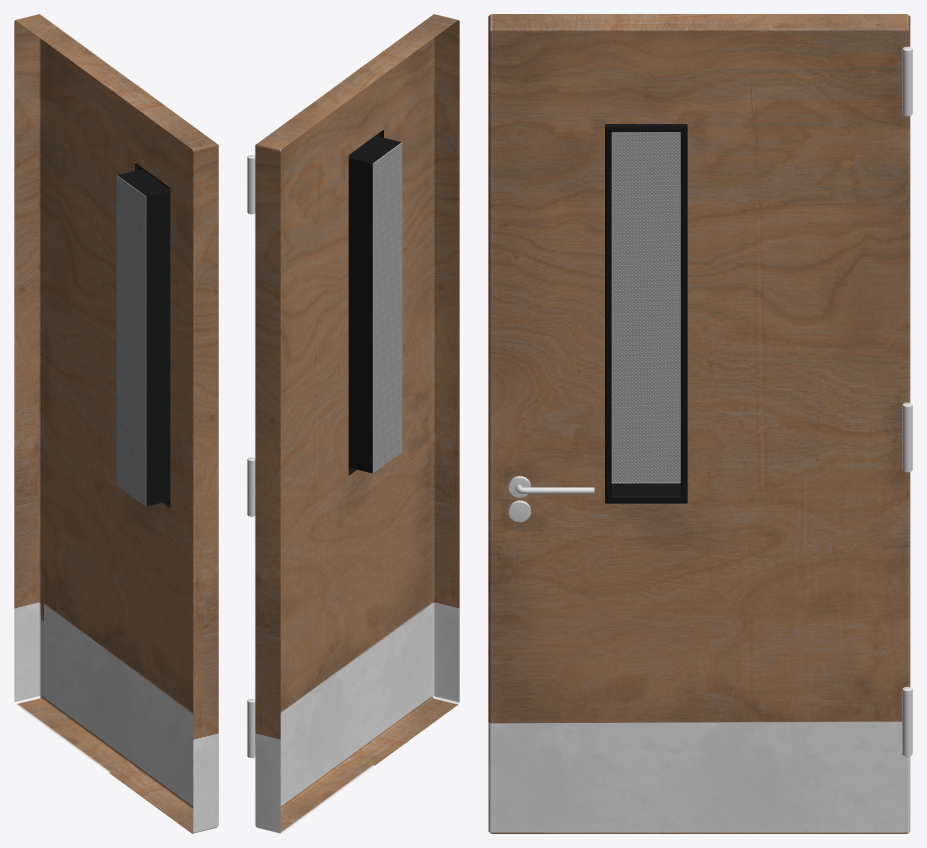
The model's file is SM_Door_2.fbx.
3 views of the same model, side by side, from view 1: azimuth 30°, elevation 25°; view 2: azimuth 150°, elevation 25°; view 3: azimuth 270°, elevation 25° (orthographic). The views are drawn at different scales.
Visible parts, largest first — view 1: SM_Door_2_LOD0; view 2: SM_Door_2_LOD0; view 3: SM_Door_2_LOD0.
Boxes of the visible parts, x1=… form: SM_Door_2_LOD0: x1=14, y1=14, x2=218, y2=833; SM_Door_2_LOD0: x1=247, y1=14, x2=459, y2=833; SM_Door_2_LOD0: x1=488, y1=14, x2=912, y2=833.
Size of the model in its own units: 12.52 by 105 by 220.
1 material, 1 textured.
